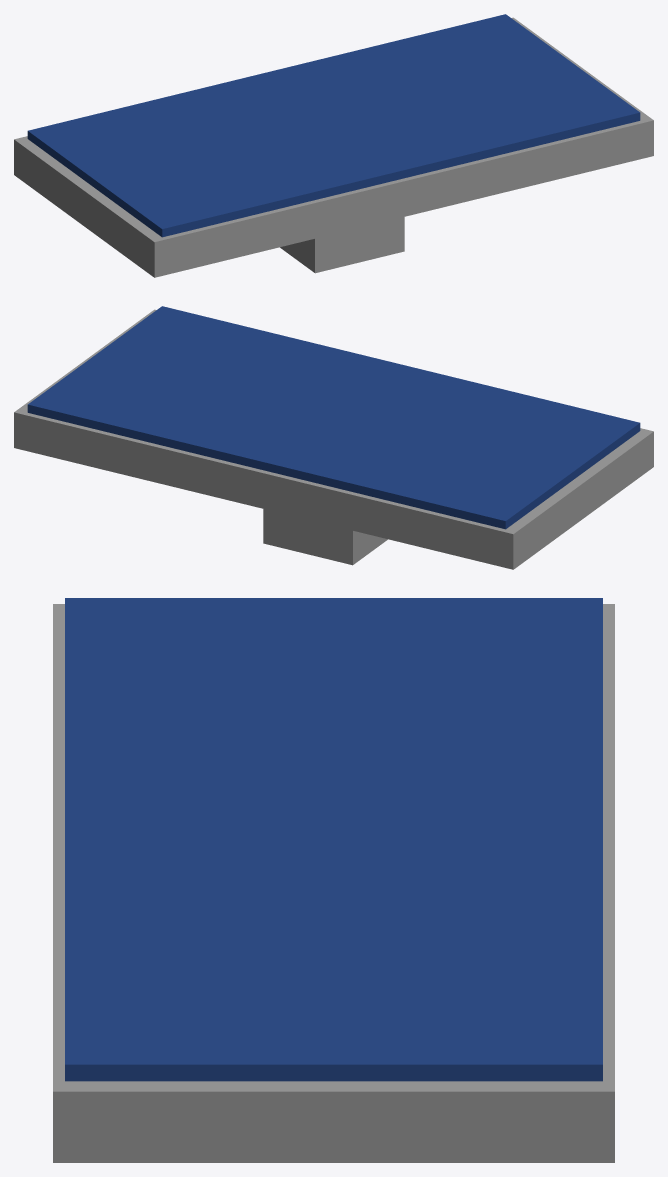
Rendered from Bed.fbx.
3 renders of one model, top to bottom at view 1: azimuth 30°, elevation 25°; view 2: azimuth 150°, elevation 25°; view 3: azimuth 270°, elevation 25°, orthographic. The views are drawn at different scales.
Visible parts, largest first — view 1: Bed; view 2: Bed; view 3: Bed.
Boxes of the visible parts, x1=… form: Bed: x1=14, y1=14, x2=653, y2=277; Bed: x1=14, y1=306, x2=653, y2=569; Bed: x1=53, y1=598, x2=614, y2=1162.
Size of the model in its own units: 297 by 69.31 by 145.
